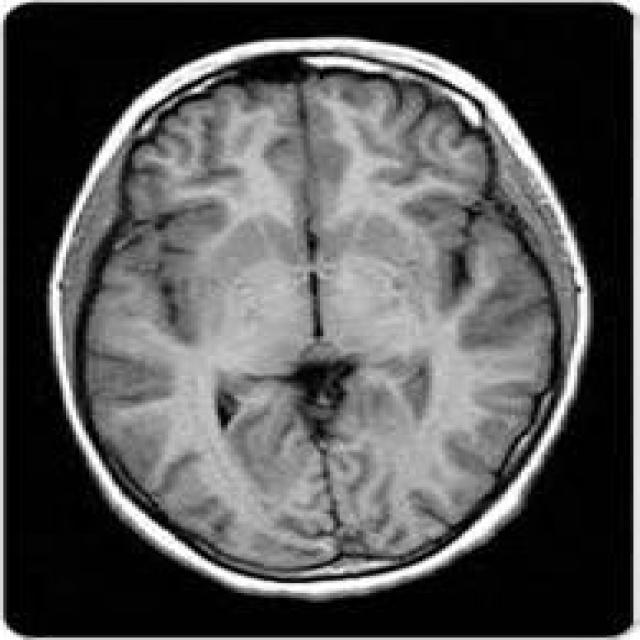notumor: (49, 40, 587, 593)
